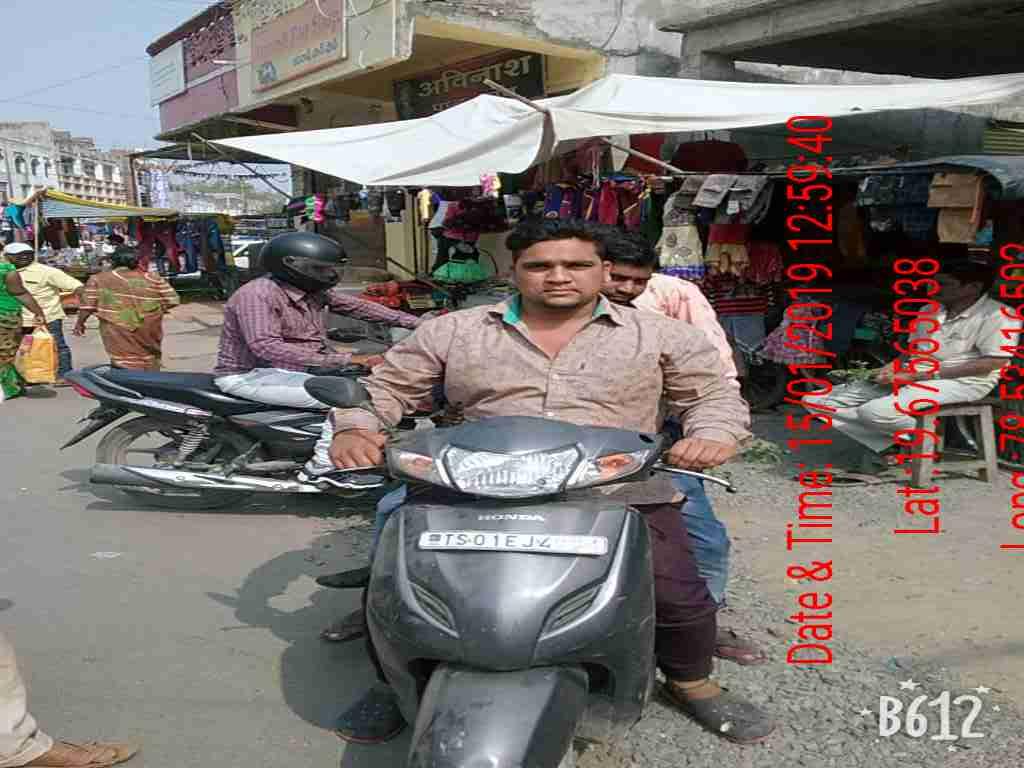plate: (417, 527, 613, 561)
